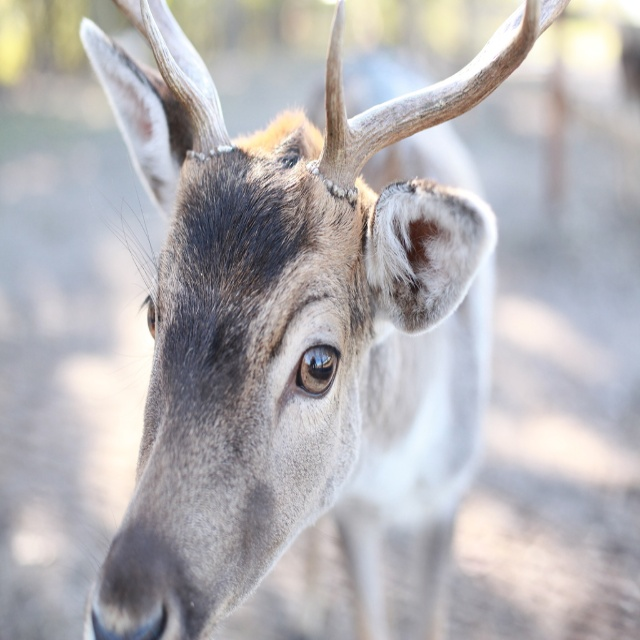Deer: (84, 0, 573, 639)
